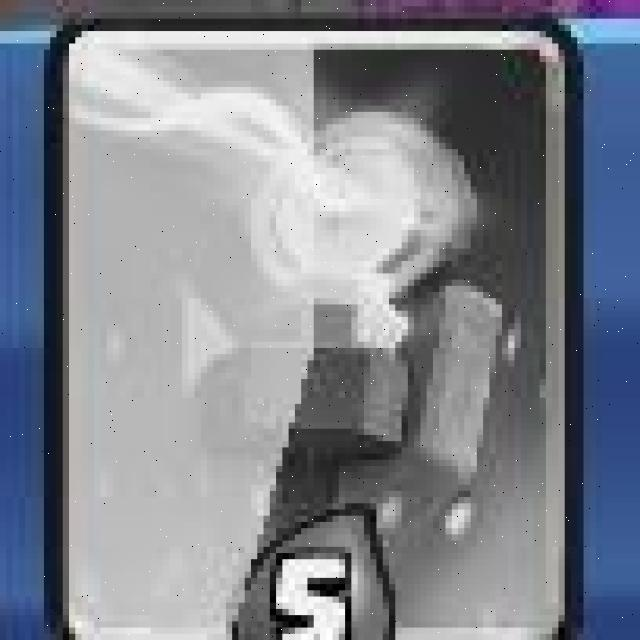Inferno_Tower: (62, 30, 584, 640)
